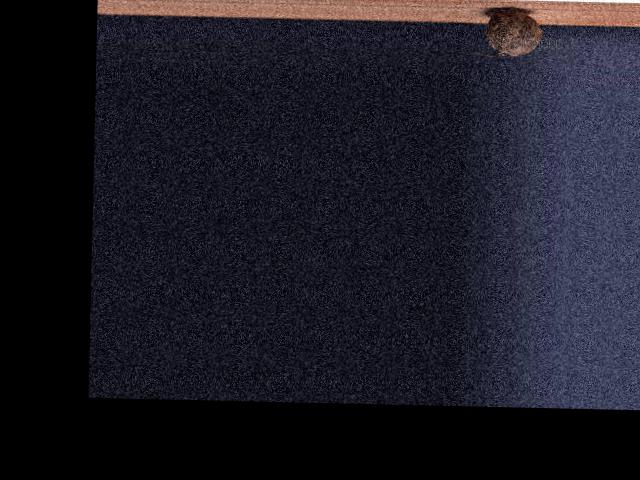beet: (468, 8, 542, 57)
